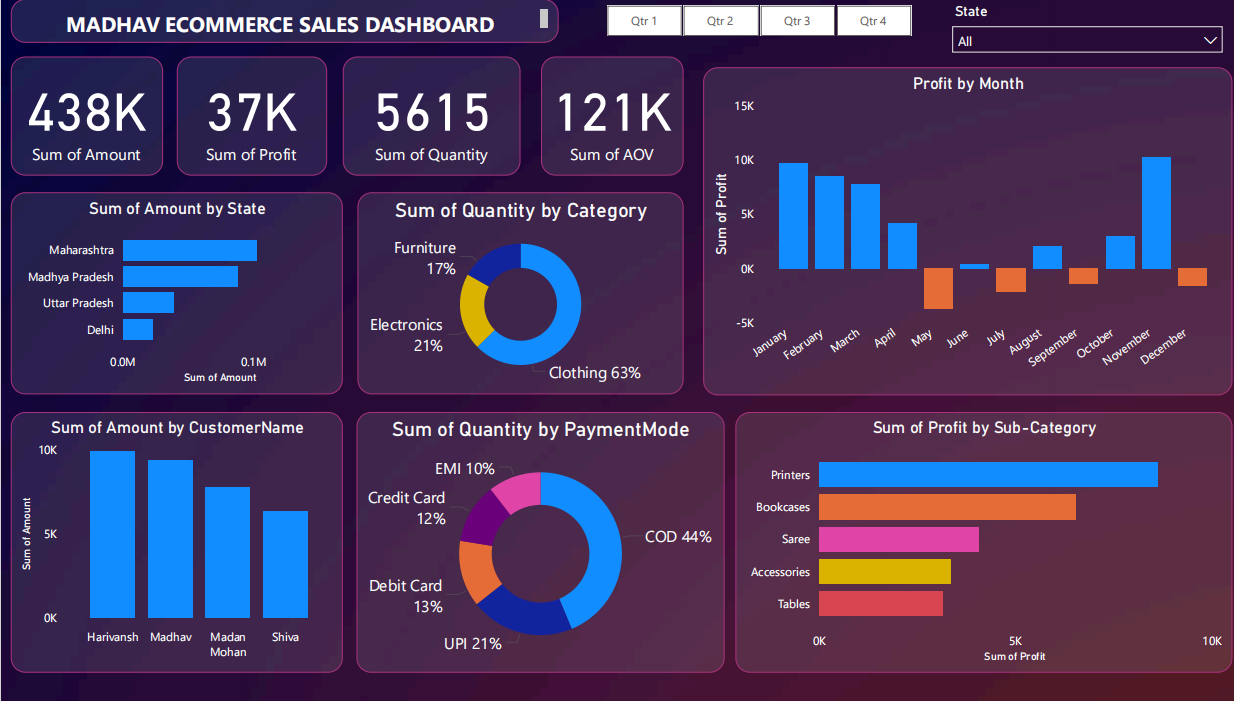

The page's visual inventory and layout, read from the dashboard file:
{"tool":"powerbi","page":{"name":"Page 1","canvas":[1280,720],"ordinal":0},"visuals":[{"type":"textbox","box":[10.1,0,561,44.6],"z":0},{"type":"columnChart","title":"Profit by Month","fields":{"Y":["Sum(Details.Profit)"],"Category":["Orders.Order Date.Variation.Date Hierarchy.Month"]},"box":[719,70,542.4,335.6],"z":1000},{"type":"barChart","fields":{"Category":["Details.Sub-Category"],"Y":["Sum(Details.Profit)"]},"box":[752.4,423.1,509,267.2],"z":2000},{"type":"donutChart","fields":{"Category":["Details.Category"],"Y":["Sum(Details.Quantity)"]},"box":[364.6,198.5,334.2,206.6],"z":3000},{"type":"donutChart","fields":{"Y":["Sum(Details.Quantity)"],"Category":["Details.PaymentMode"]},"box":[364.2,423.1,377,267.2],"z":4000},{"type":"card","fields":{"Values":["Sum(Details.Amount)"]},"box":[10.1,58.7,155.9,121.5],"z":5000},{"type":"card","fields":{"Values":["Sum(Details.Profit)"]},"box":[180.3,58.7,153.9,121.5],"z":6000},{"type":"card","fields":{"Values":["Sum(Details.Quantity)"]},"box":[350.4,58.7,182.3,121.5],"z":7000},{"type":"card","fields":{"Values":["Sum(Details.AOV)"]},"box":[552.9,58.7,145.8,121.5],"z":8000},{"type":"barChart","fields":{"Category":["Orders.State"],"Y":["Sum(Details.Amount)"]},"box":[10.1,198.5,340.3,206.6],"z":9000},{"type":"columnChart","fields":{"Category":["Orders.CustomerName"],"Y":["Sum(Details.Amount)"]},"box":[10.1,423.3,340.3,267.3],"z":10000},{"type":"slicer","fields":{"Values":["Orders.Order Date.Variation.Date Hierarchy.Quarter"]},"box":[594.9,0,361.1,44.5],"z":11000},{"type":"slicer","fields":{"Values":["Orders.State"]},"box":[963.9,0,297.4,58.9],"z":12000}]}

Visuals, with their boxes in screenshot pixels (x1, y1, x2, y2), scaled from the page's 1280x720 canvas onto the 1234x701 screenshot:
textbox: x1=10 y1=0 x2=551 y2=43
"Profit by Month" columnChart: x1=693 y1=68 x2=1216 y2=395
barChart - Details.Sub-Category x Sum(Details.Profit): x1=725 y1=412 x2=1216 y2=672
donutChart - Details.Category x Sum(Details.Quantity): x1=351 y1=193 x2=674 y2=394
donutChart - Sum(Details.Quantity) x Details.PaymentMode: x1=351 y1=412 x2=715 y2=672
card - Sum(Details.Amount): x1=10 y1=57 x2=160 y2=175
card - Sum(Details.Profit): x1=174 y1=57 x2=322 y2=175
card - Sum(Details.Quantity): x1=338 y1=57 x2=514 y2=175
card - Sum(Details.AOV): x1=533 y1=57 x2=674 y2=175
barChart - Orders.State x Sum(Details.Amount): x1=10 y1=193 x2=338 y2=394
columnChart - Orders.CustomerName x Sum(Details.Amount): x1=10 y1=412 x2=338 y2=672
slicer - Orders.Order Date.Variation.Date Hierarchy.Quarter: x1=574 y1=0 x2=922 y2=43
slicer - Orders.State: x1=929 y1=0 x2=1216 y2=57
